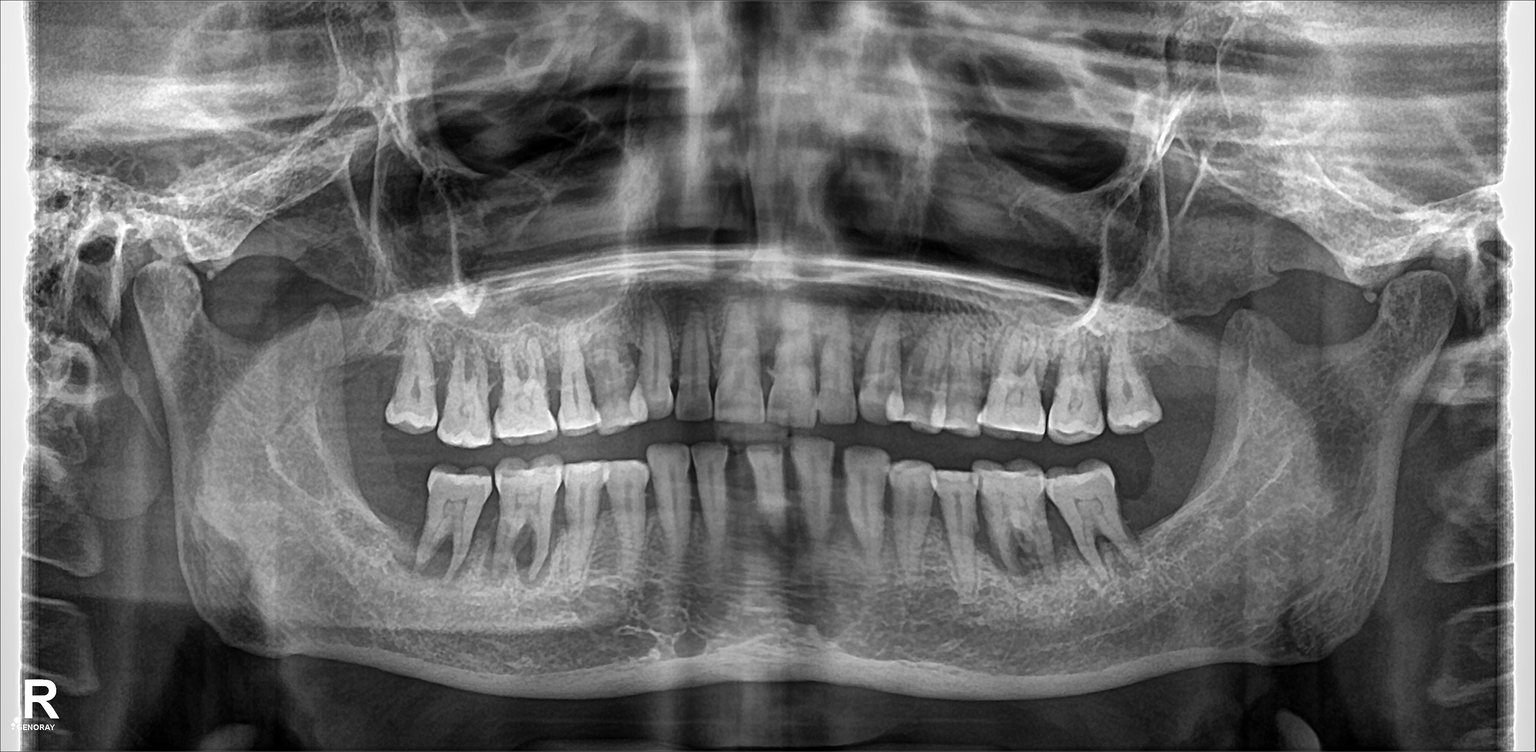Missing Tooth: (339, 449, 410, 548), (1158, 311, 1220, 420), (346, 326, 392, 428), (1125, 465, 1172, 551), (1181, 456, 1219, 545)
